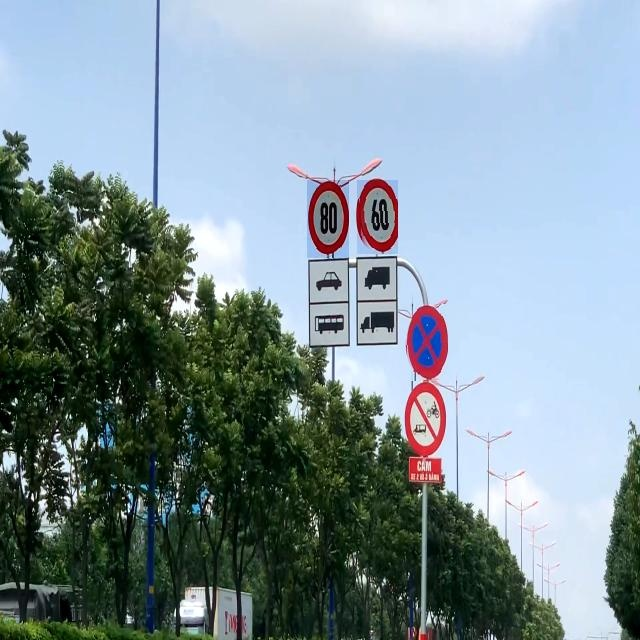bien_cam: (405, 304, 448, 381), (307, 180, 349, 258), (357, 180, 398, 254)
